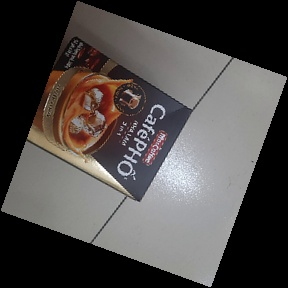CF pho: (18, 35, 195, 204)
